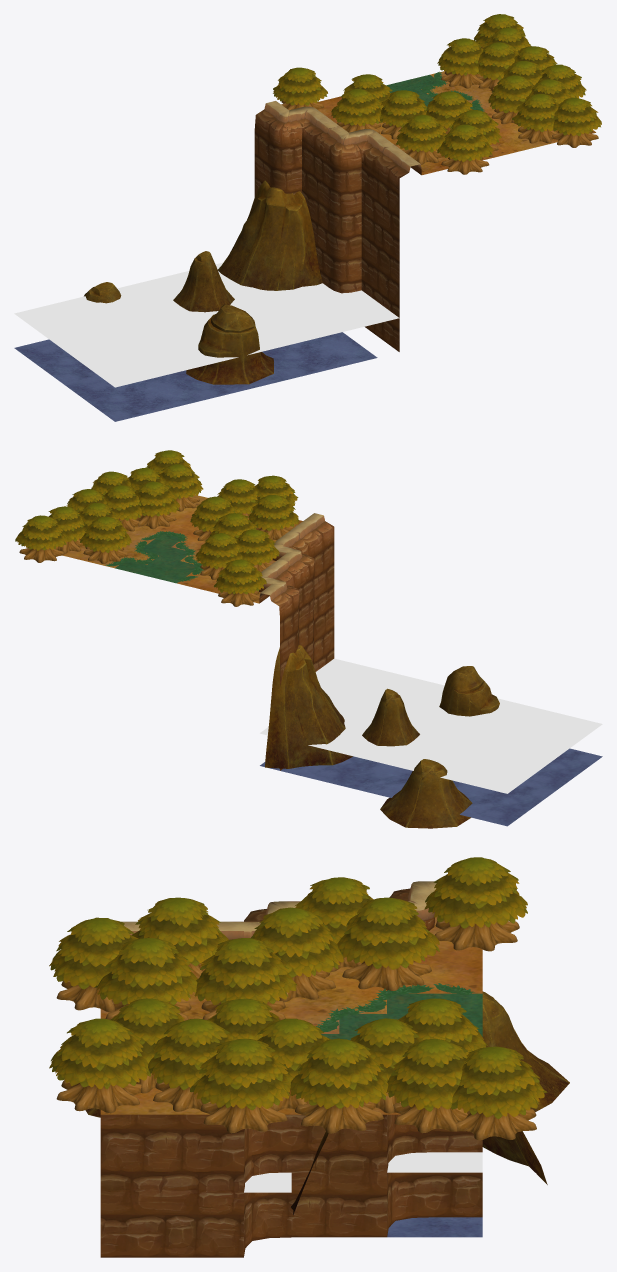
File: Field_9A.fbx
3 renders of one model, top to bottom at view 1: azimuth 30°, elevation 25°; view 2: azimuth 150°, elevation 25°; view 3: azimuth 270°, elevation 25°, orthographic. The views are drawn at different scales.
Parts seen in each view (by area): view 1: Field_09A1__MI_f_water_b_01, Field_09A1__MI_MysteriousTree_01, Field_09A1__MI_f_wall_a_01a_w, Field_09A1__MI_f_sand_a_01a, Field_09A1__MI_Lively_rock_01_01, Field_09A1__MI_f_wall_a_01, Field_09A1__MI_Lively_rock_02_01_1, Field_09A1__MI_MysteriousTree_02, Field_09A1__MI_Lively_rock_02_01, Field_09A1__MI_f_grass_d_01, Field_09A1__MI_f_grass_d_01_t, Field_09A1__MI_f_grass_c_01; view 2: Field_09A1__MI_f_water_b_01, Field_09A1__MI_MysteriousTree_01, Field_09A1__MI_f_sand_a_01a, Field_09A1__MI_Lively_rock_01_01, Field_09A1__MI_Lively_rock_02_01, Field_09A1__MI_f_wall_a_01a_w, Field_09A1__MI_f_wall_a_01, Field_09A1__MI_MysteriousTree_02, Field_09A1__MI_f_grass_d_01, Field_09A1__MI_Lively_rock_02_01_1, Field_09A1__MI_f_grass_c_01, Field_09A1__MI_f_grass_c_03; view 3: Field_09A1__MI_MysteriousTree_01, Field_09A1__MI_f_wall_a_01a_w, Field_09A1__MI_MysteriousTree_02, Field_09A1__MI_f_grass_d_01, Field_09A1__MI_f_water_b_01, Field_09A1__MI_Lively_rock_02_01, Field_09A1__MI_f_grass_c_01, Field_09A1__MI_f_wall_a_01, Field_09A1__MI_f_sand_a_01a, Field_09A1__MI_f_grass_d_01_t, Field_09A1__MI_Lively_rock_01_01, Field_09A1__MI_f_grass_c_03.
Part boxes in pixels (box(x1,y1,x2,y2)): Field_09A1__MI_f_water_b_01: box(14, 262, 399, 387); Field_09A1__MI_MysteriousTree_01: box(273, 14, 601, 161); Field_09A1__MI_f_wall_a_01a_w: box(254, 129, 399, 351); Field_09A1__MI_f_sand_a_01a: box(14, 332, 377, 421); Field_09A1__MI_Lively_rock_01_01: box(218, 180, 322, 290); Field_09A1__MI_f_wall_a_01: box(254, 101, 421, 191); Field_09A1__MI_Lively_rock_02_01_1: box(186, 304, 273, 384); Field_09A1__MI_MysteriousTree_02: box(281, 47, 598, 174); Field_09A1__MI_Lively_rock_02_01: box(84, 251, 234, 312); Field_09A1__MI_f_grass_d_01: box(317, 71, 520, 150); Field_09A1__MI_f_grass_d_01_t: box(421, 126, 595, 174); Field_09A1__MI_f_grass_c_01: box(386, 74, 475, 109); Field_09A1__MI_f_water_b_01: box(260, 658, 602, 793); Field_09A1__MI_MysteriousTree_01: box(15, 450, 299, 594); Field_09A1__MI_f_sand_a_01a: box(260, 748, 602, 826); Field_09A1__MI_Lively_rock_01_01: box(265, 644, 352, 768); Field_09A1__MI_Lively_rock_02_01: box(362, 688, 472, 828); Field_09A1__MI_f_wall_a_01a_w: box(280, 540, 334, 770); Field_09A1__MI_f_wall_a_01: box(259, 513, 334, 619); Field_09A1__MI_MysteriousTree_02: box(19, 496, 293, 606); Field_09A1__MI_f_grass_d_01: box(74, 512, 276, 603); Field_09A1__MI_Lively_rock_02_01_1: box(439, 666, 499, 716); Field_09A1__MI_f_grass_c_01: box(115, 534, 195, 583); Field_09A1__MI_f_grass_c_03: box(105, 531, 203, 581); Field_09A1__MI_MysteriousTree_01: box(49, 857, 547, 1118); Field_09A1__MI_f_wall_a_01a_w: box(100, 1114, 482, 1257); Field_09A1__MI_MysteriousTree_02: box(56, 920, 536, 1140); Field_09A1__MI_f_grass_d_01: box(196, 916, 482, 1033); Field_09A1__MI_f_water_b_01: box(244, 1152, 482, 1192); Field_09A1__MI_Lively_rock_02_01: box(482, 991, 569, 1111); Field_09A1__MI_f_grass_c_01: box(321, 993, 482, 1040); Field_09A1__MI_f_wall_a_01: box(121, 881, 436, 939); Field_09A1__MI_f_sand_a_01a: box(387, 1217, 482, 1237); Field_09A1__MI_f_grass_d_01_t: box(100, 992, 400, 1114); Field_09A1__MI_Lively_rock_01_01: box(291, 1131, 547, 1214); Field_09A1__MI_f_grass_c_03: box(316, 983, 474, 1031).
Bounding box in the file's own units: 3534 × 1410 × 1645.
